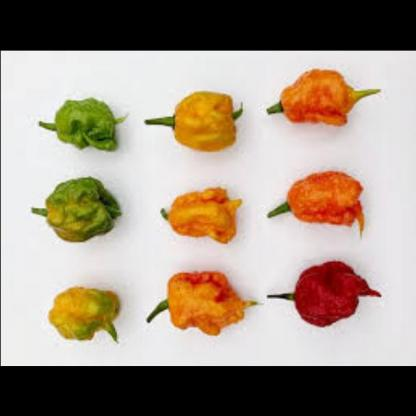hot pepper: (142, 66, 244, 161), (259, 56, 369, 140), (261, 260, 379, 338), (258, 162, 373, 242), (140, 266, 246, 339), (26, 171, 118, 249), (151, 174, 244, 242), (36, 274, 125, 344), (31, 92, 120, 156)
